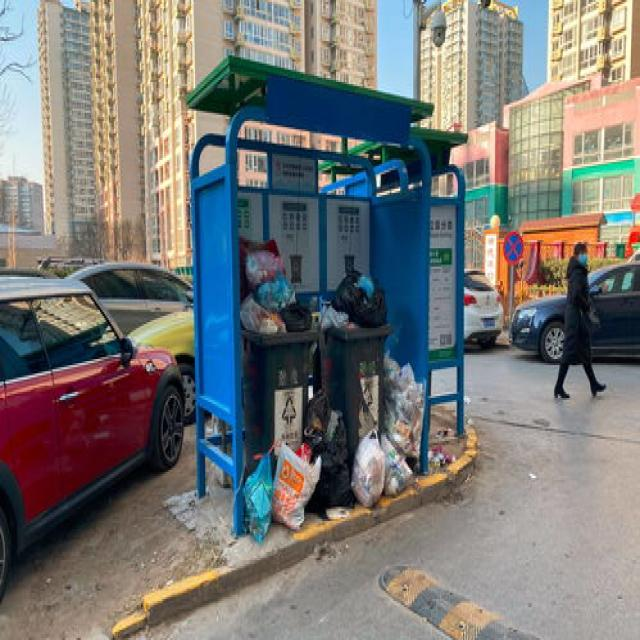garbage: (240, 349, 423, 537), (427, 441, 455, 466)
overflow: (240, 238, 317, 459), (316, 255, 388, 458)
